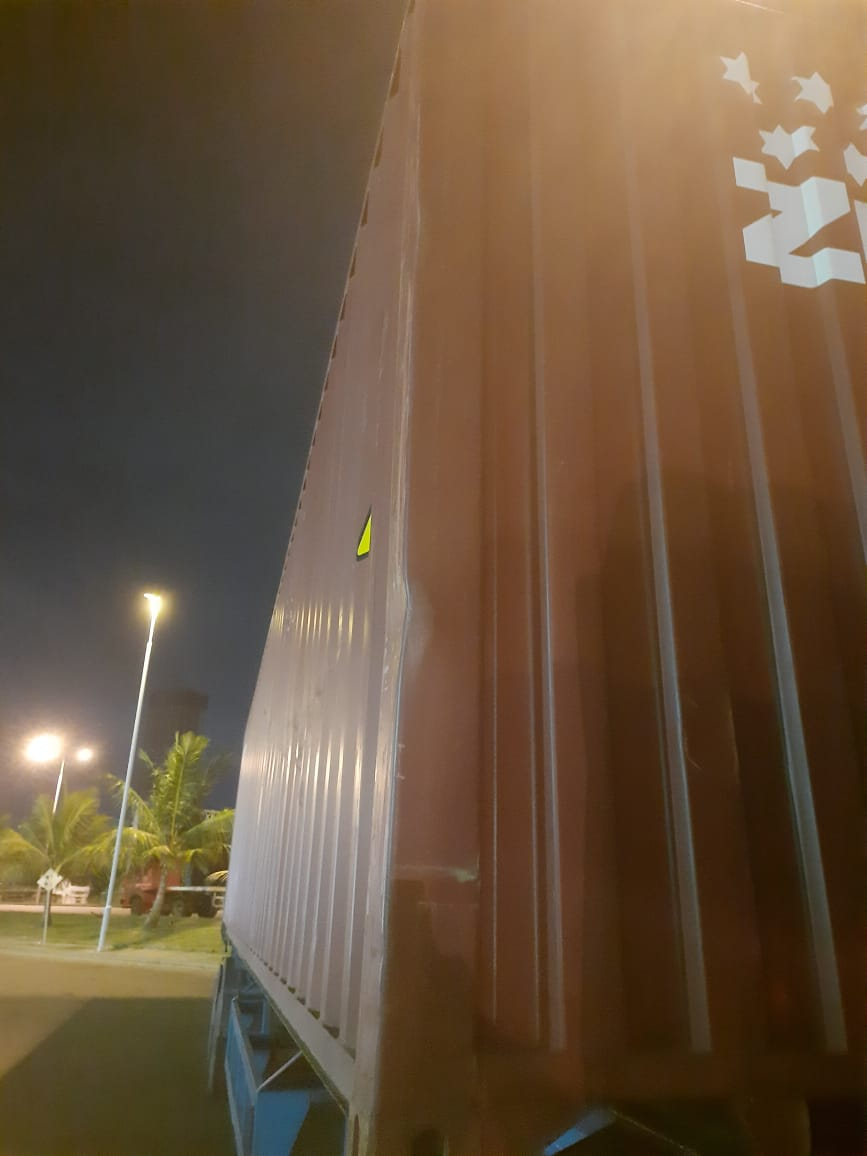front_side: (406, 12, 867, 1156)
right_side: (243, 62, 383, 1106)
